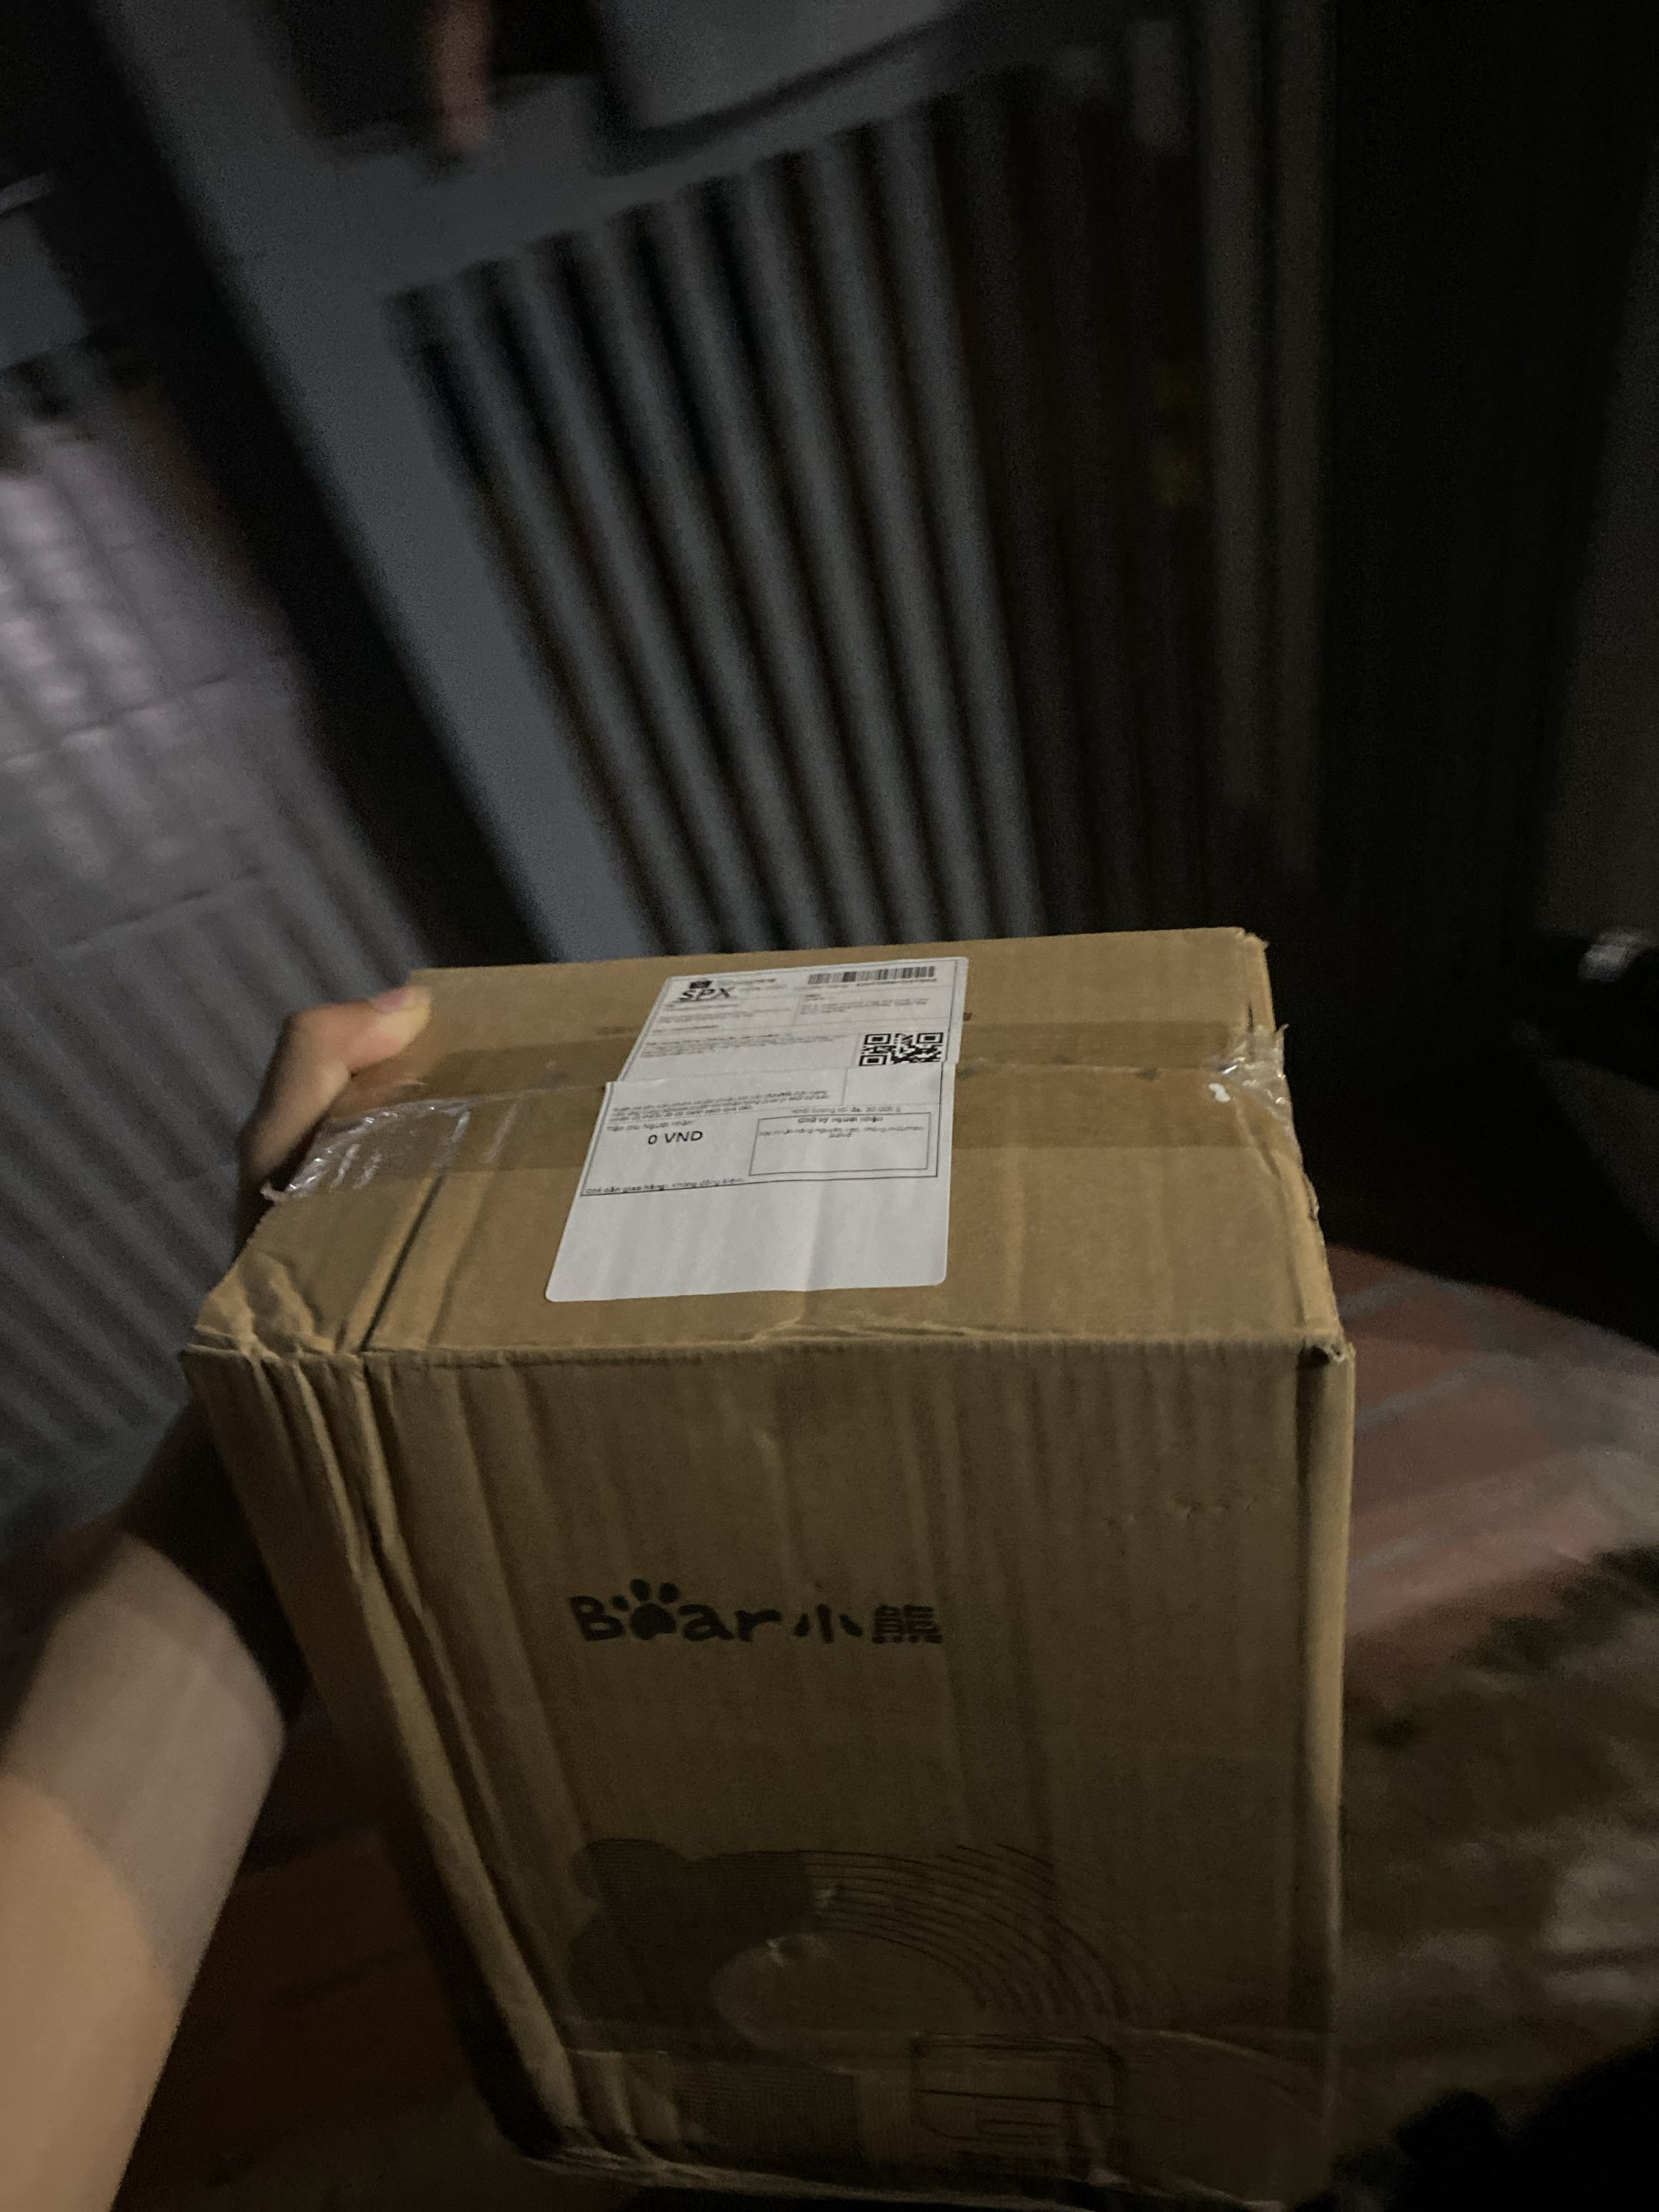pod: (512, 916, 1053, 1305)
